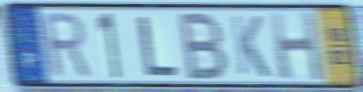1: (96, 11, 123, 81)
B: (178, 10, 231, 82)
H: (268, 9, 327, 84)
K: (228, 13, 273, 80)
L: (138, 13, 182, 77)
R: (39, 10, 94, 81)
